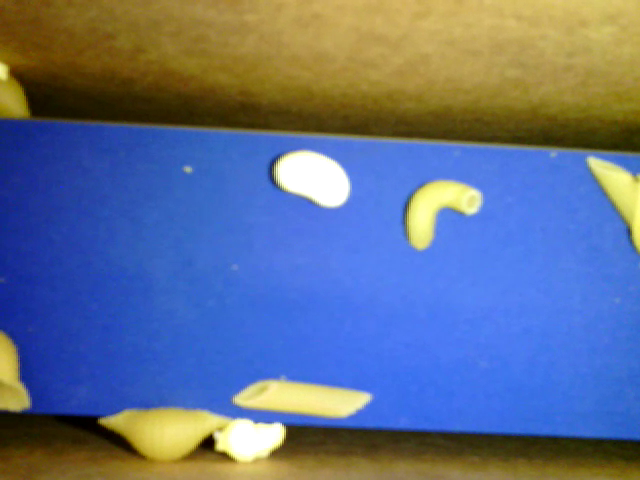elbow: (404, 178, 482, 254)
penne: (231, 383, 374, 419), (584, 159, 639, 242)
shell: (92, 410, 234, 459), (2, 327, 31, 416)
